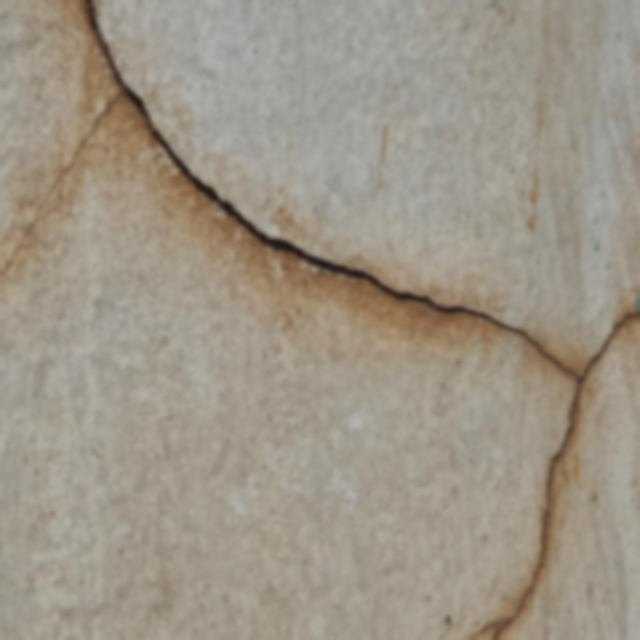SurfaceCrack: (2, 0, 638, 578)
